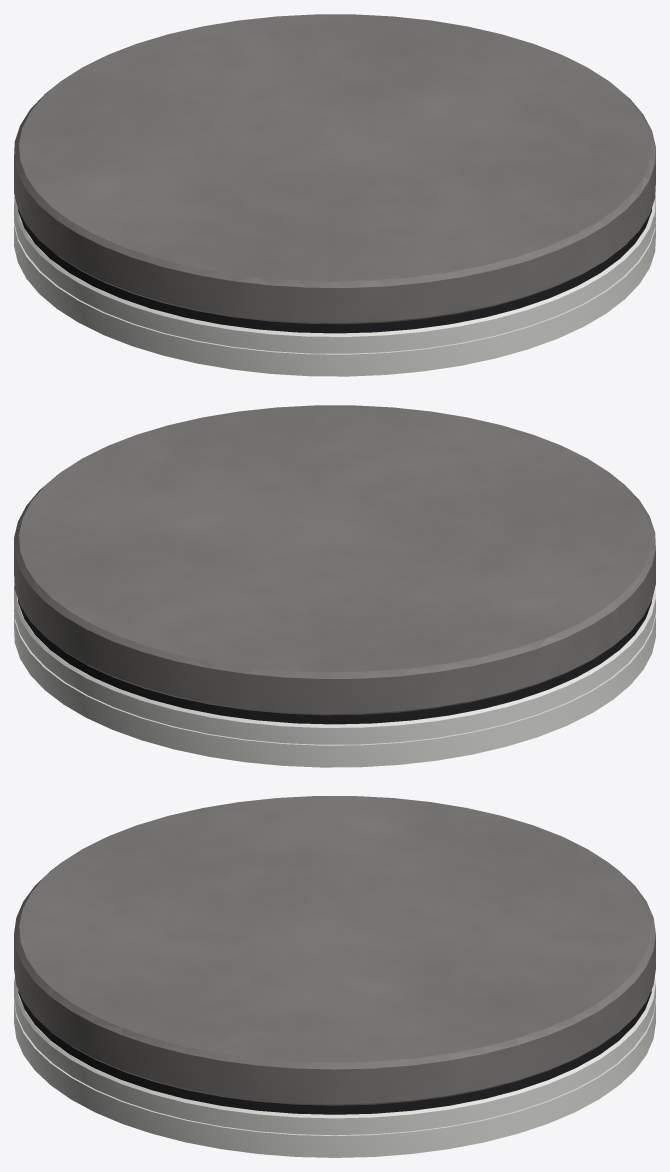
File: ax_util_13_rotary_bearing_l.glb
3 views of the same model, one above another, from view 1: azimuth 30°, elevation 25°; view 2: azimuth 150°, elevation 25°; view 3: azimuth 270°, elevation 25° (orthographic).
Visible parts, largest first — view 1: rotor, stator, seal_ring; view 2: rotor, stator, seal_ring; view 3: rotor, stator, seal_ring.
Part boxes in pixels (x1,y1,x2,y2): rotor: (14,14,655,324); stator: (14,194,655,376); seal_ring: (18,208,651,333); rotor: (14,405,655,715); stator: (14,585,655,767); seal_ring: (18,599,651,724); rotor: (14,796,655,1105); stator: (14,977,655,1157); seal_ring: (18,990,651,1114).
Size of the model in its own units: 2.5 by 0.4 by 2.5.
3 materials, 1 textured.
